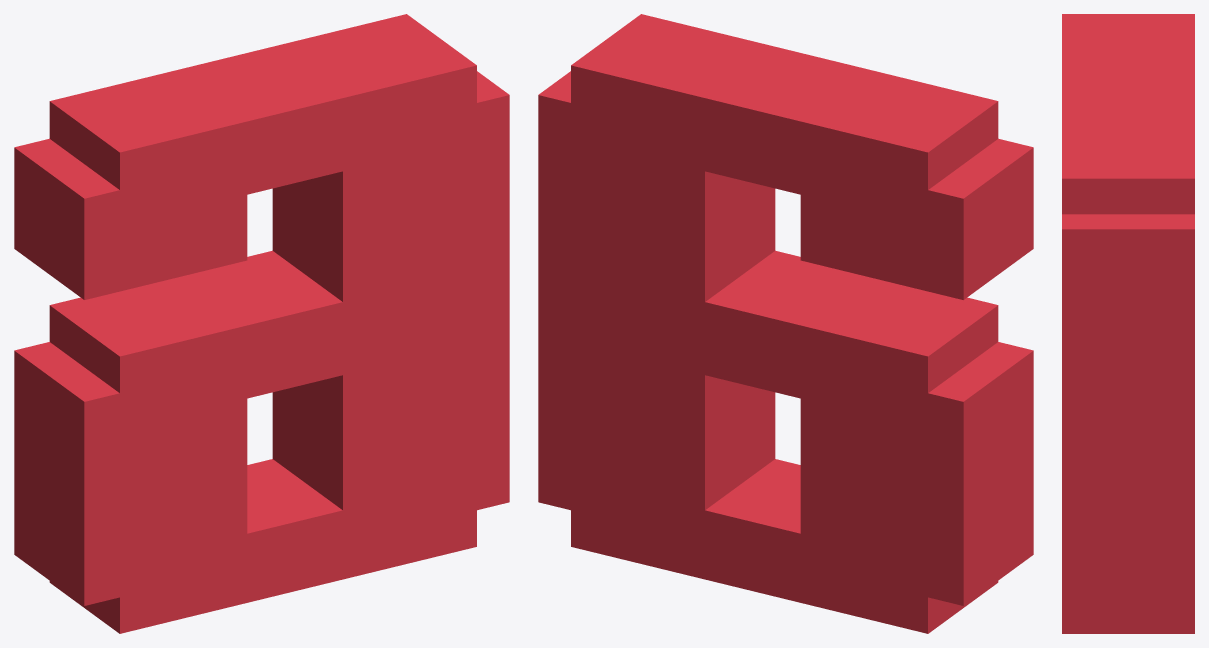
Rendered from six.glb.
The picture shows the model from 3 angles, left to right: view 1: azimuth 30°, elevation 25°; view 2: azimuth 150°, elevation 25°; view 3: azimuth 270°, elevation 25°; orthographic projection. The views are drawn at different scales.
Parts seen in each view (by area): view 1: six; view 2: six; view 3: six.
Boxes of the visible parts, x1=… form: six: x1=14, y1=14, x2=509, y2=633; six: x1=538, y1=14, x2=1033, y2=633; six: x1=1062, y1=14, x2=1194, y2=633.
Size of the model in its own units: 1.75 by 1.89 by 0.5.
